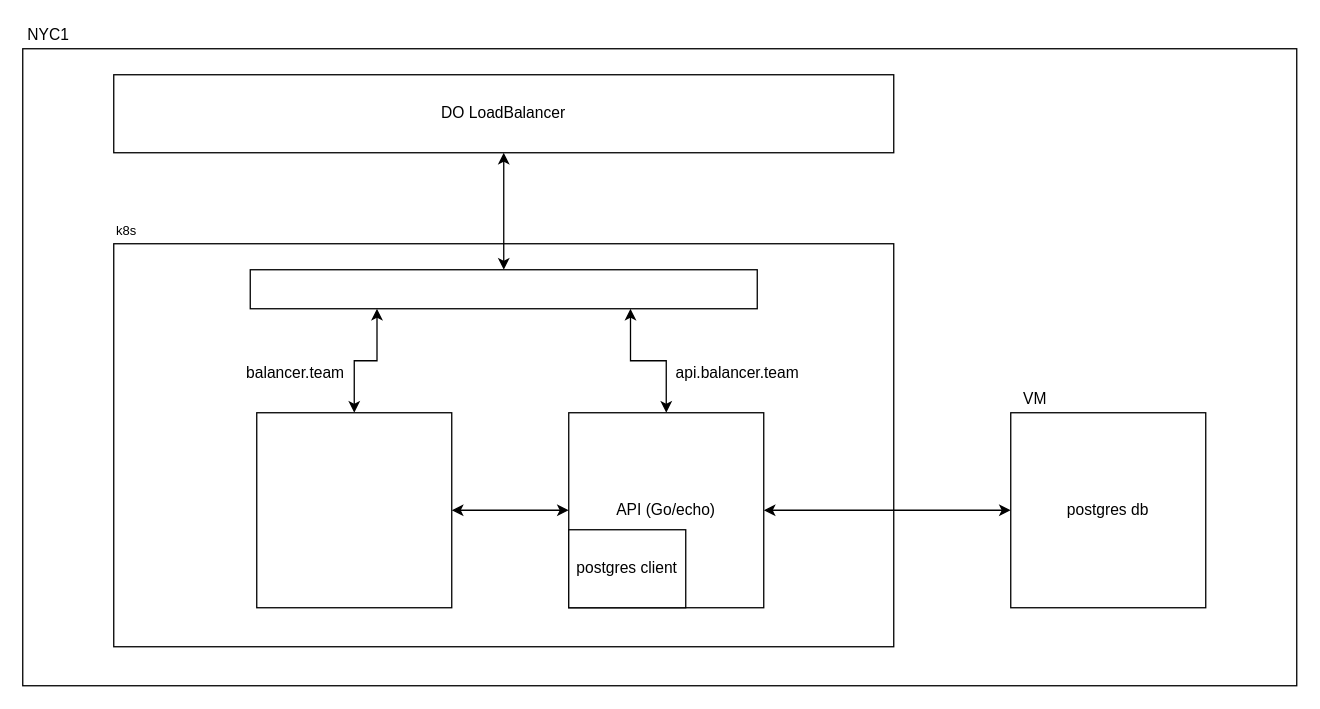
Some shapes in this 1320 by 709 pixel diagram are drawn without their labels. The centre of each missing label's shape, as x and y in pixels:
"ngnix" belongs at point 503,288.
"UI (next-js)" belongs at point 353,509.
